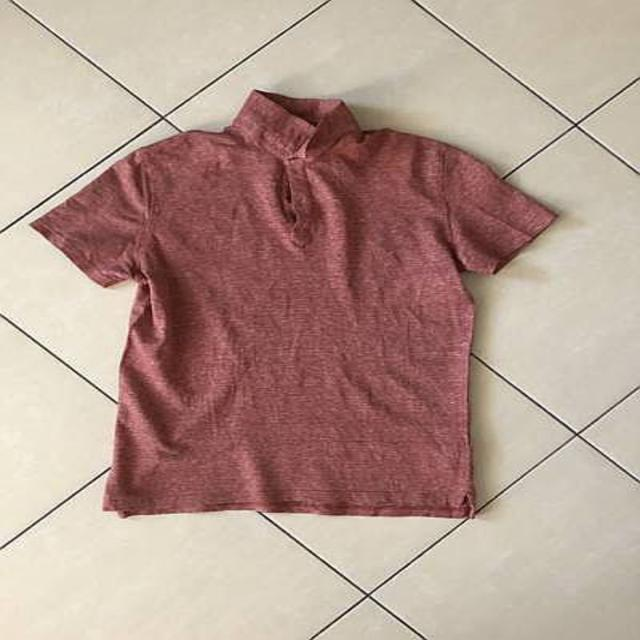T_SHIRT: (19, 83, 569, 532)
